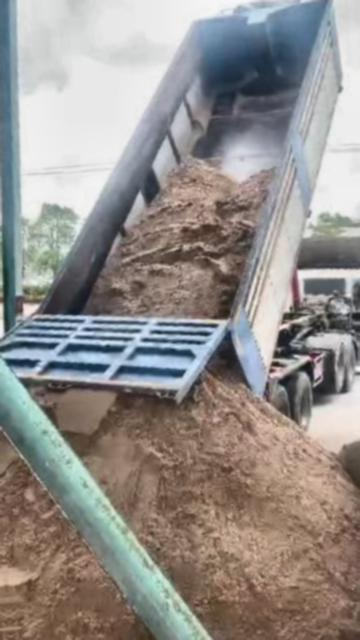sand: (71, 369, 360, 640), (0, 463, 186, 640), (88, 163, 266, 317), (28, 386, 117, 444), (338, 414, 360, 530), (0, 423, 17, 478)
